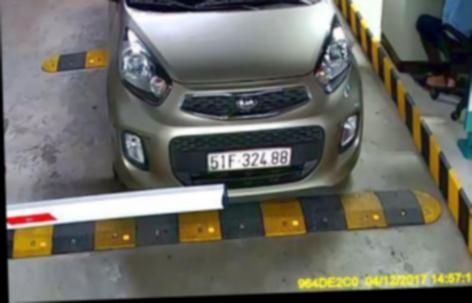License_Plate: (207, 143, 292, 173)
